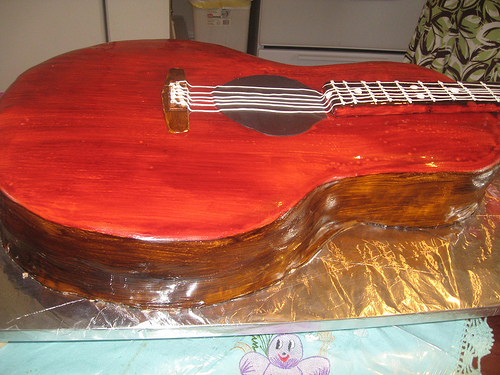guitar: (1, 33, 500, 310)
